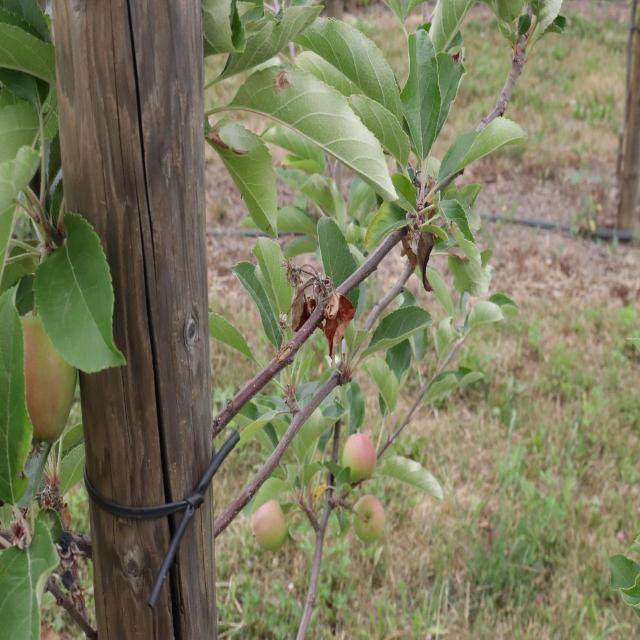-FireBlight-: (286, 266, 350, 358), (418, 220, 437, 298)
